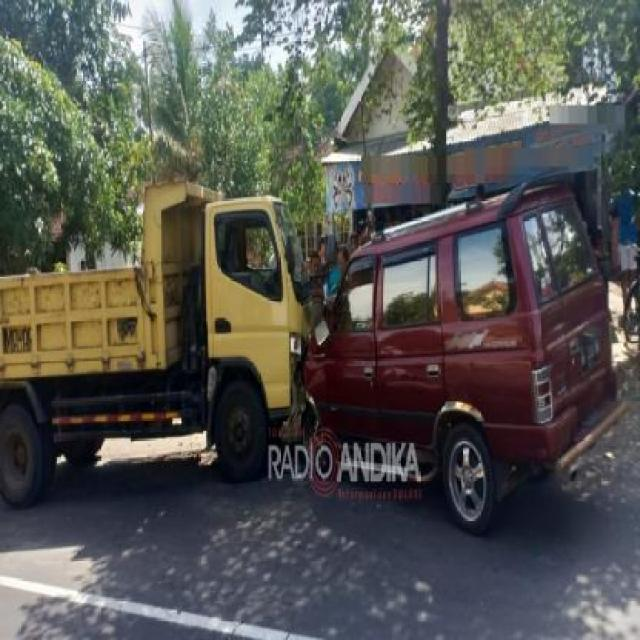truck: (1, 176, 312, 476)
